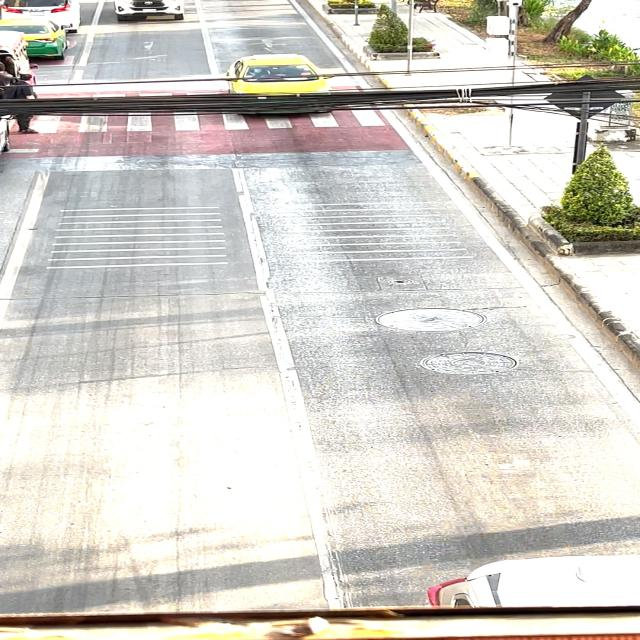car: (217, 37, 338, 135)
